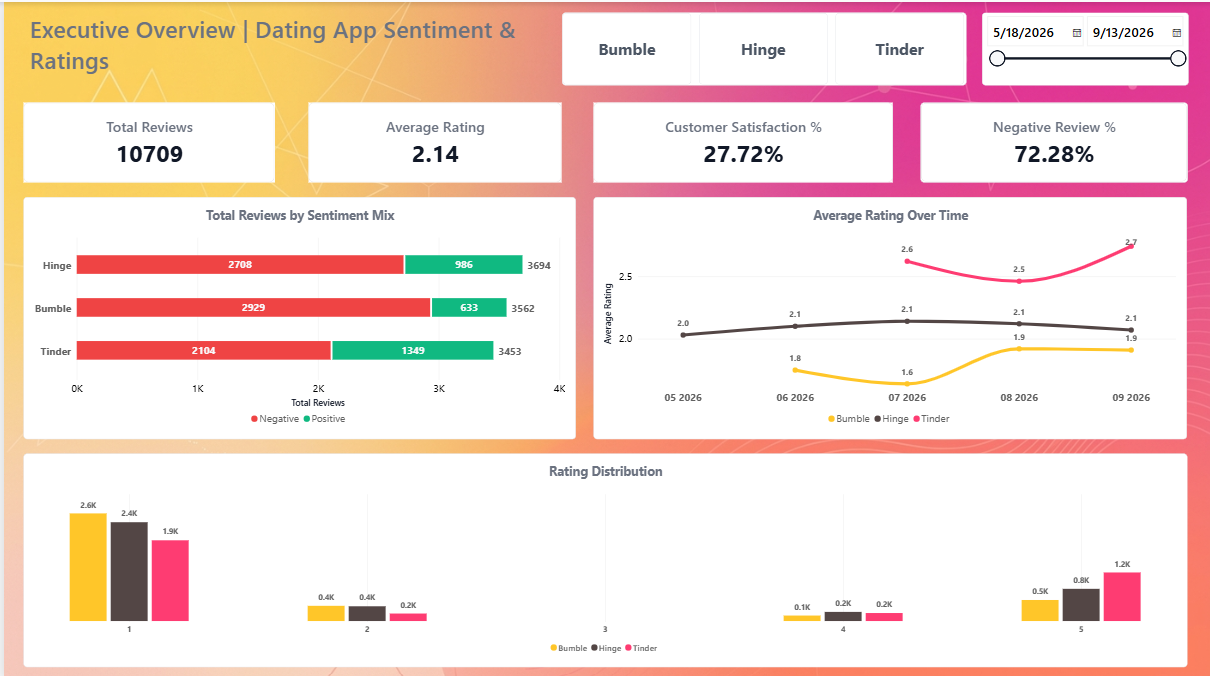

The dashboard page shown, as its layout file describes it:
{"tool":"powerbi","page":{"name":"Executive Overview","canvas":[1920,1080],"ordinal":0},"visuals":[{"type":"advancedSlicerVisual","fields":{"Values":["public vw_dating_reviews_curated.app_name"]},"box":[887.3,17,643.5,116.2],"z":0},{"type":"slicer","fields":{"Values":["DimDate.Date"]},"box":[1556.2,17,328.8,116.2],"z":1000},{"type":"cardVisual","fields":{"Data":["Measures (2).Total Reviews"]},"box":[31.2,158.7,399.7,127.6],"z":2000},{"type":"cardVisual","fields":{"Data":["Measures (2).Average Rating"]},"box":[484.7,158.7,402.5,127.6],"z":3000},{"type":"cardVisual","fields":{"Data":["Measures (2).Customer Satisfaction % (CSAT %)"]},"box":[938.3,158.7,476.2,127.6],"z":4000},{"type":"cardVisual","fields":{"Data":["Measures (2).Negative Review %"]},"box":[1457,158.7,425.2,127.6],"z":5000},{"type":"barChart","title":"Total Reviews by Sentiment Mix","fields":{"Category":["public vw_dating_reviews_curated.app_name"],"Series":["public vw_dating_reviews_curated.sentiment"],"Y":["Measures (2).Total Reviews"]},"box":[31.2,309,878.7,385.5],"z":6000},{"type":"lineChart","title":"Average Rating Over Time","fields":{"Category":["DimDate.Month Year"],"Series":["public vw_dating_reviews_curated.app_name"],"Y":["Measures (2).Average Rating"]},"box":[938.3,309,943.9,385.5],"z":7000},{"type":"clusteredColumnChart","title":"Rating Distribution","fields":{"Category":["public vw_dating_reviews_curated.rating"],"Series":["public vw_dating_reviews_curated.app_name"],"Y":["Measures (2).Total Reviews"]},"box":[31.2,717.2,1851,340.2],"z":8000},{"type":"textbox","box":[31.2,17,824.9,116.2],"z":9000}]}

Visuals, with their boxes in screenshot pixels (x1, y1, x2, y2), scaled from the page's 1920x1080 canvas onto the 1210x676 screenshot:
advancedSlicerVisual - public vw_dating_reviews_curated.app_name: 559/11/965/83
slicer - DimDate.Date: 981/11/1188/83
cardVisual - Measures (2).Total Reviews: 20/99/272/179
cardVisual - Measures (2).Average Rating: 305/99/559/179
cardVisual - Measures (2).Customer Satisfaction % (CSAT %): 591/99/891/179
cardVisual - Measures (2).Negative Review %: 918/99/1186/179
"Total Reviews by Sentiment Mix" barChart: 20/193/573/435
"Average Rating Over Time" lineChart: 591/193/1186/435
"Rating Distribution" clusteredColumnChart: 20/449/1186/662
textbox: 20/11/540/83
